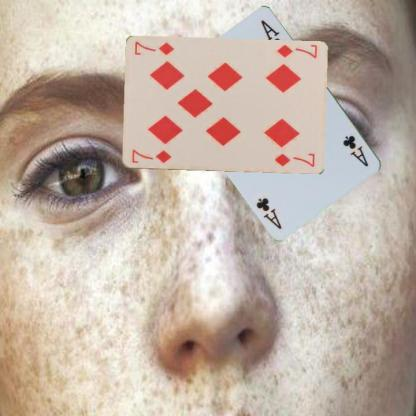7d: (129, 147, 173, 165), (274, 42, 318, 60)
Ac: (340, 132, 370, 168)
